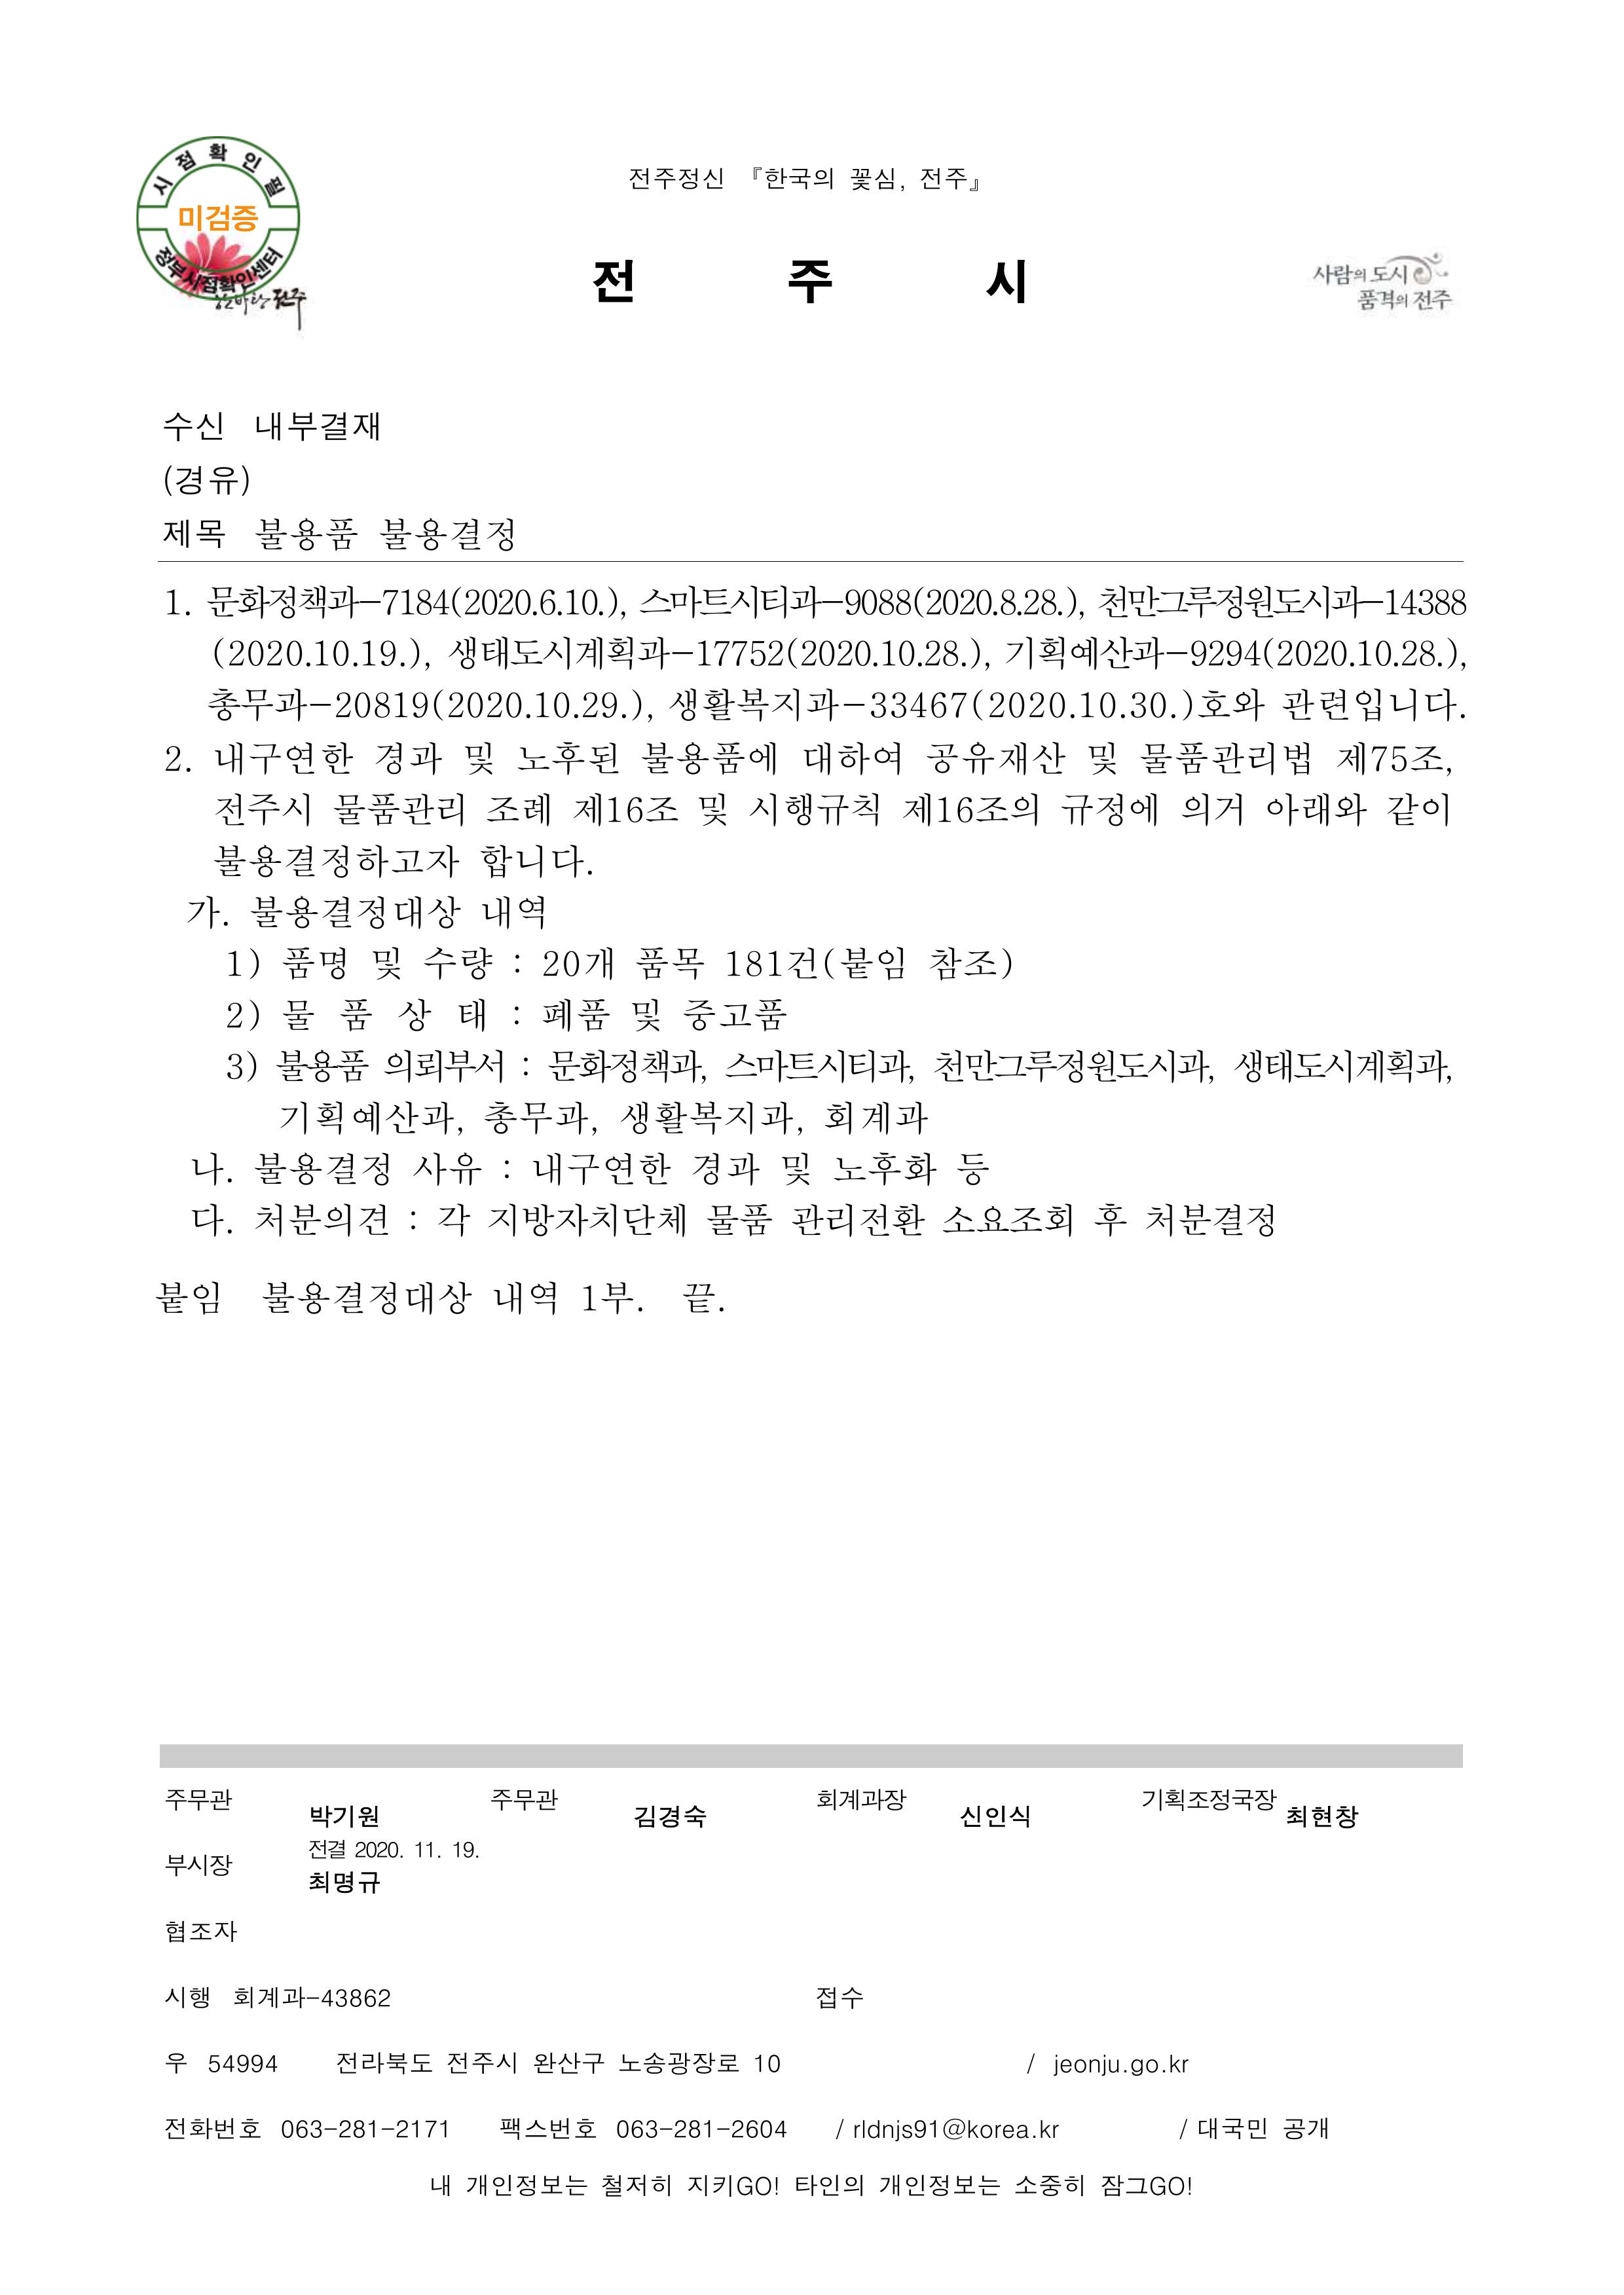t: (591, 251, 914, 312), (448, 631, 882, 674), (208, 685, 656, 724), (226, 997, 671, 1036), (1097, 581, 1466, 623), (204, 581, 566, 623), (667, 685, 972, 724), (222, 943, 527, 982), (929, 1047, 1215, 1086), (1187, 631, 1466, 670), (272, 1047, 538, 1086), (258, 1276, 480, 1323), (212, 842, 462, 882), (247, 892, 466, 936), (484, 1201, 692, 1244), (251, 1201, 477, 1240), (208, 631, 434, 670), (1230, 1047, 1452, 1086), (968, 685, 1179, 724), (638, 584, 842, 623), (613, 1094, 803, 1136), (494, 1152, 677, 1195), (1001, 629, 1188, 670), (720, 1047, 914, 1086), (1137, 739, 1316, 781), (276, 1097, 462, 1137), (1276, 685, 1463, 724), (720, 943, 907, 982), (545, 1047, 710, 1090), (251, 1147, 397, 1194), (570, 792, 735, 832), (329, 788, 470, 832), (1140, 1201, 1280, 1244), (746, 788, 885, 832), (839, 584, 1000, 620), (212, 739, 358, 778), (925, 739, 1069, 778), (785, 1201, 929, 1240), (638, 739, 778, 778), (377, 516, 516, 555), (480, 1097, 602, 1140), (685, 1150, 817, 1190), (254, 513, 365, 559), (900, 788, 1040, 824), (828, 1147, 943, 1190), (939, 1201, 1075, 1237), (1137, 1782, 1280, 1814), (251, 409, 380, 445), (480, 842, 591, 882), (513, 739, 623, 778), (1262, 788, 1370, 828), (821, 1097, 929, 1137), (1330, 739, 1449, 774), (800, 739, 904, 778), (462, 2169, 588, 2201), (232, 1987, 394, 2011), (875, 2169, 1000, 2201), (212, 788, 312, 828), (1058, 788, 1158, 828), (678, 997, 788, 1033), (616, 2047, 739, 2080), (925, 943, 1014, 982), (157, 462, 251, 498), (623, 161, 728, 193), (875, 634, 965, 670), (154, 1276, 226, 1319), (1097, 2169, 1194, 2201), (369, 739, 448, 778), (746, 161, 839, 193), (175, 200, 258, 236), (635, 943, 710, 982), (1179, 788, 1247, 832), (337, 2119, 452, 2144), (538, 943, 616, 979), (409, 1150, 487, 1186), (498, 2116, 599, 2144), (477, 892, 548, 932), (703, 1201, 774, 1240), (1384, 788, 1452, 828), (1356, 287, 1452, 315), (979, 258, 1033, 308), (487, 1280, 563, 1315), (1366, 264, 1444, 298), (1280, 1800, 1359, 1832), (161, 2112, 240, 2144), (1190, 2112, 1269, 2144), (484, 788, 552, 824), (631, 1800, 706, 1832), (957, 1800, 1033, 1832), (599, 2169, 674, 2201), (792, 2169, 868, 2201), (1011, 2169, 1086, 2201), (337, 2051, 434, 2076), (1198, 685, 1266, 720), (574, 1280, 642, 1315), (817, 1789, 911, 1814), (688, 2173, 781, 2198), (161, 1782, 232, 1814), (161, 409, 226, 445), (849, 2119, 939, 2144), (616, 2119, 717, 2140), (304, 1868, 380, 1897), (943, 2119, 1029, 2144), (530, 2047, 606, 2076), (161, 516, 226, 548), (186, 892, 236, 932), (914, 164, 982, 193), (164, 1850, 232, 1879), (846, 161, 907, 193), (308, 1803, 383, 1829), (164, 1922, 240, 1947), (491, 1789, 563, 1814), (208, 2051, 280, 2076), (448, 2051, 520, 2076), (1050, 2055, 1122, 2080), (190, 1150, 236, 1186), (190, 1201, 236, 1237), (459, 742, 502, 781), (1018, 584, 1061, 620), (950, 1147, 989, 1186), (717, 2119, 788, 2140), (678, 1280, 720, 1315), (1082, 742, 1122, 778), (563, 584, 606, 616), (222, 1050, 265, 1082), (1090, 1201, 1126, 1237), (1312, 265, 1370, 287), (280, 2119, 337, 2140), (164, 1987, 212, 2011), (817, 1987, 864, 2011), (1283, 2119, 1330, 2144), (355, 1839, 405, 1861), (308, 1839, 348, 1861), (1130, 2058, 1169, 2080), (164, 746, 190, 774), (753, 2055, 785, 2076), (965, 642, 986, 670), (416, 1839, 445, 1861), (452, 1839, 480, 1861), (1000, 588, 1018, 620), (606, 588, 623, 620), (164, 591, 186, 616), (1065, 591, 1082, 620), (240, 2119, 261, 2140), (430, 2176, 452, 2198), (1165, 2058, 1190, 2076), (1036, 2123, 1061, 2140), (168, 2051, 186, 2076)
